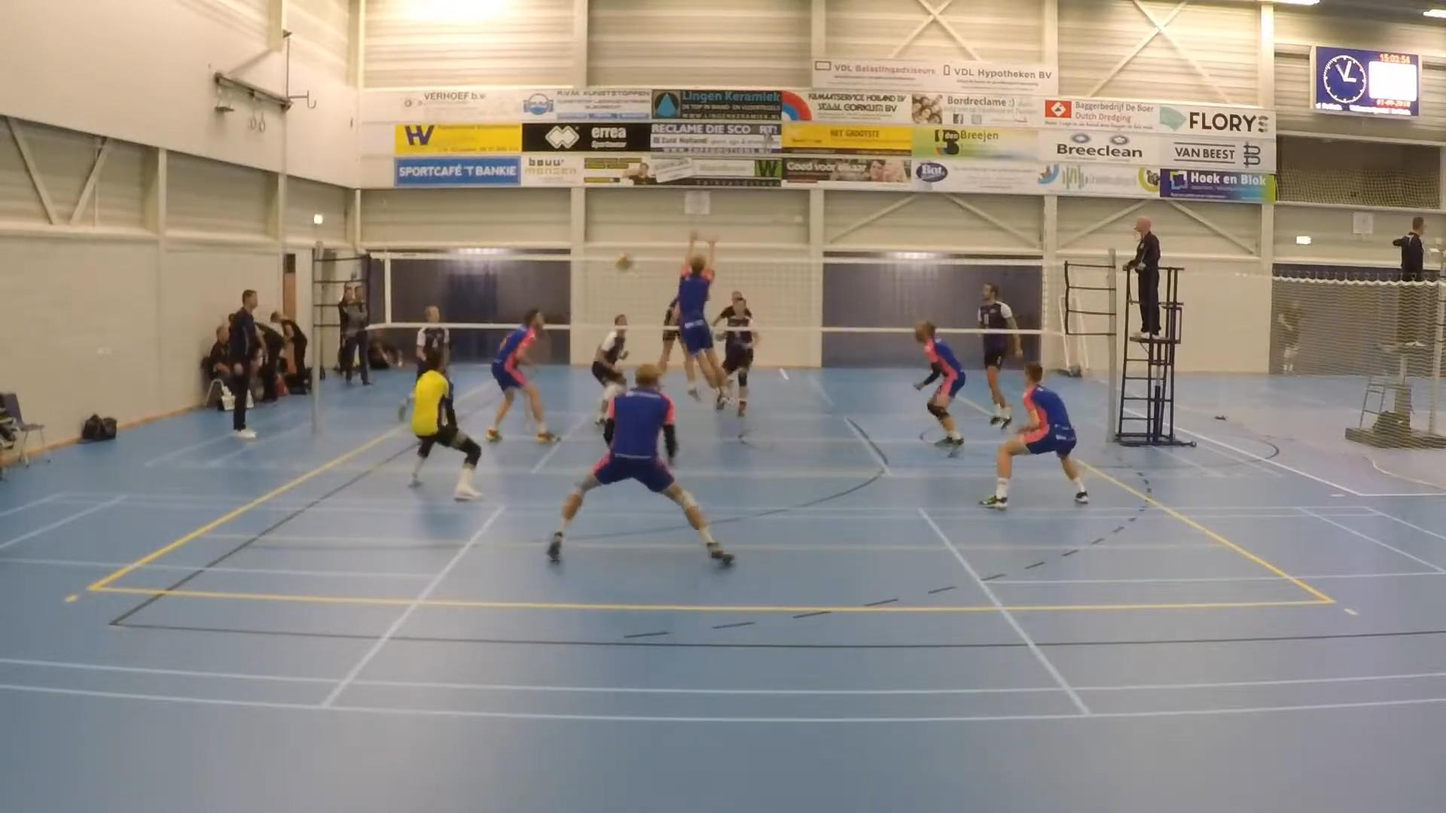Block: (656, 223, 736, 417)
Dig: (535, 362, 736, 568)
Player: (981, 362, 1088, 509), (411, 350, 481, 501), (486, 309, 557, 443), (978, 282, 1022, 428), (914, 321, 965, 446), (715, 292, 758, 416), (591, 315, 627, 425), (414, 306, 451, 380), (658, 297, 679, 374)
ball: (616, 251, 637, 274)
